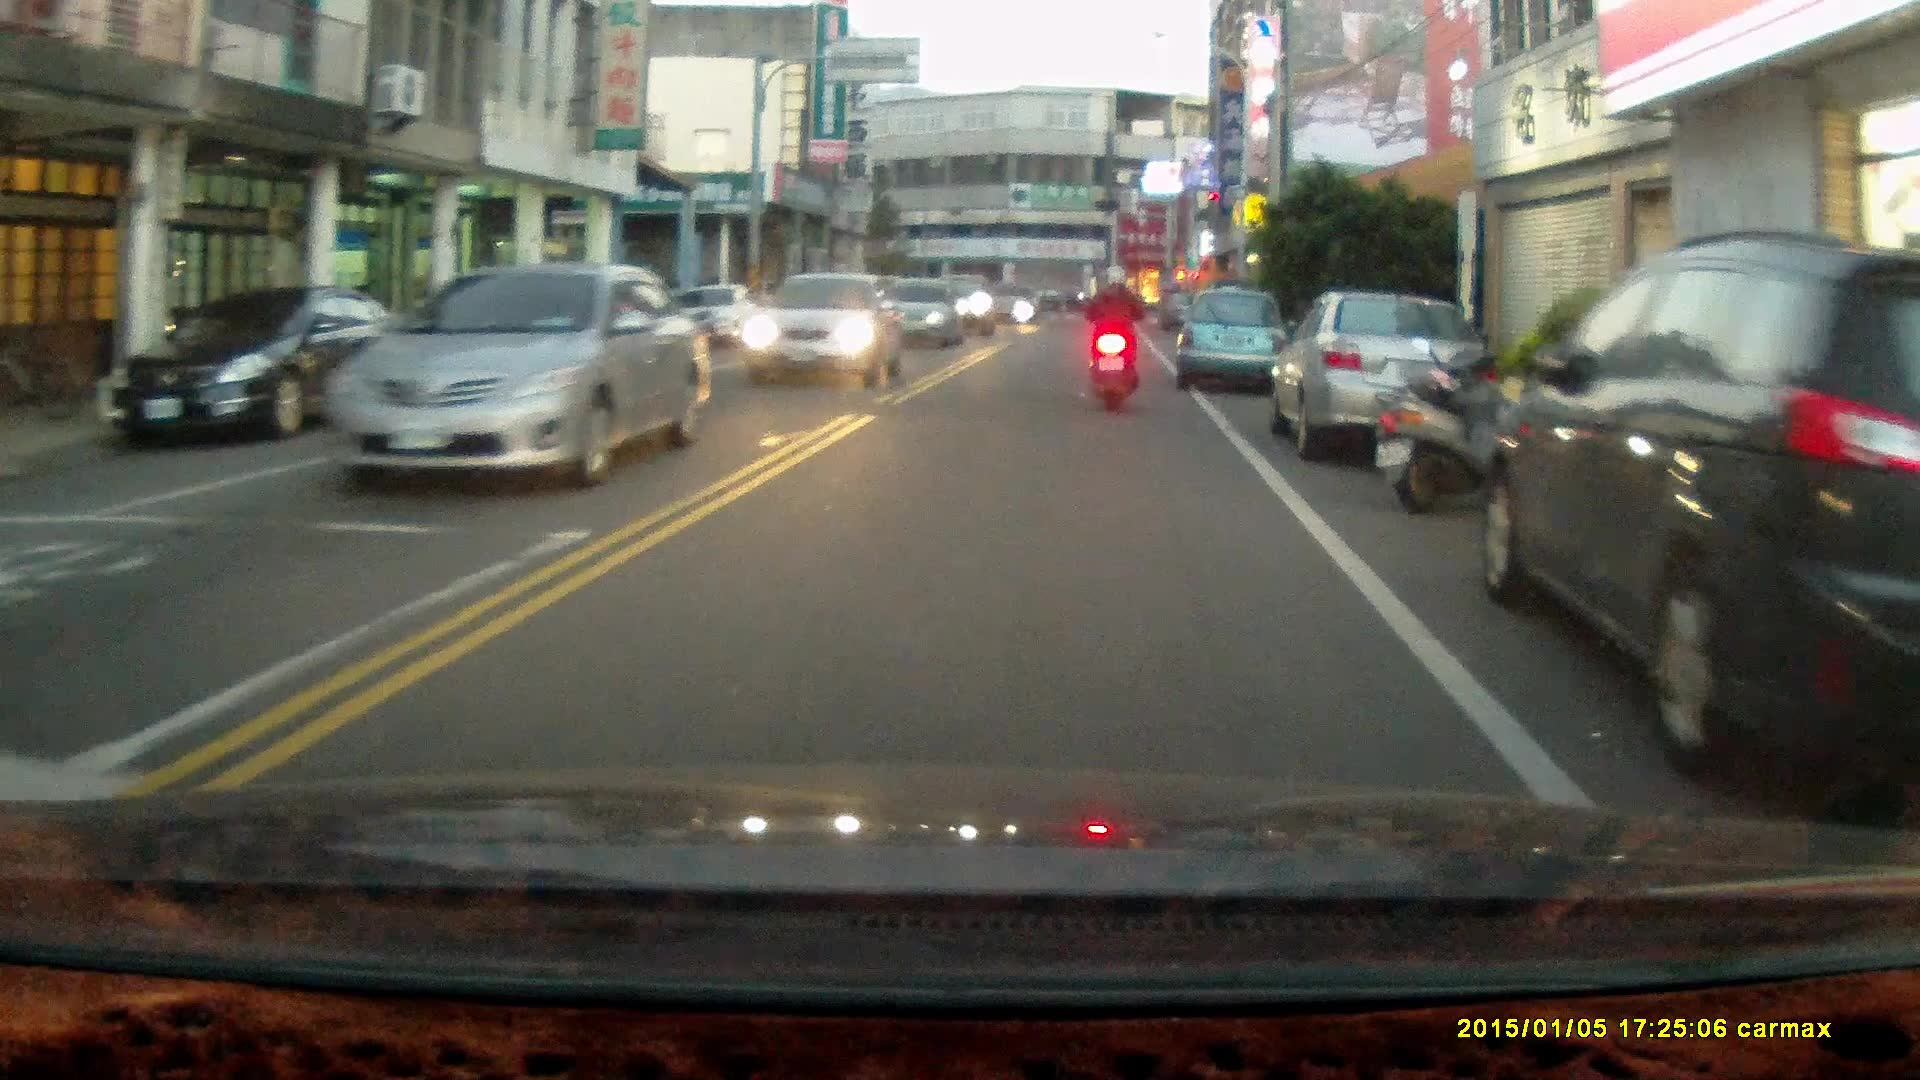rider: (1082, 263, 1145, 416)
vehicle: (1480, 228, 1920, 789), (317, 264, 718, 487), (94, 285, 402, 451), (1278, 297, 1485, 469), (741, 277, 906, 393), (1176, 290, 1294, 400), (880, 283, 968, 354)
